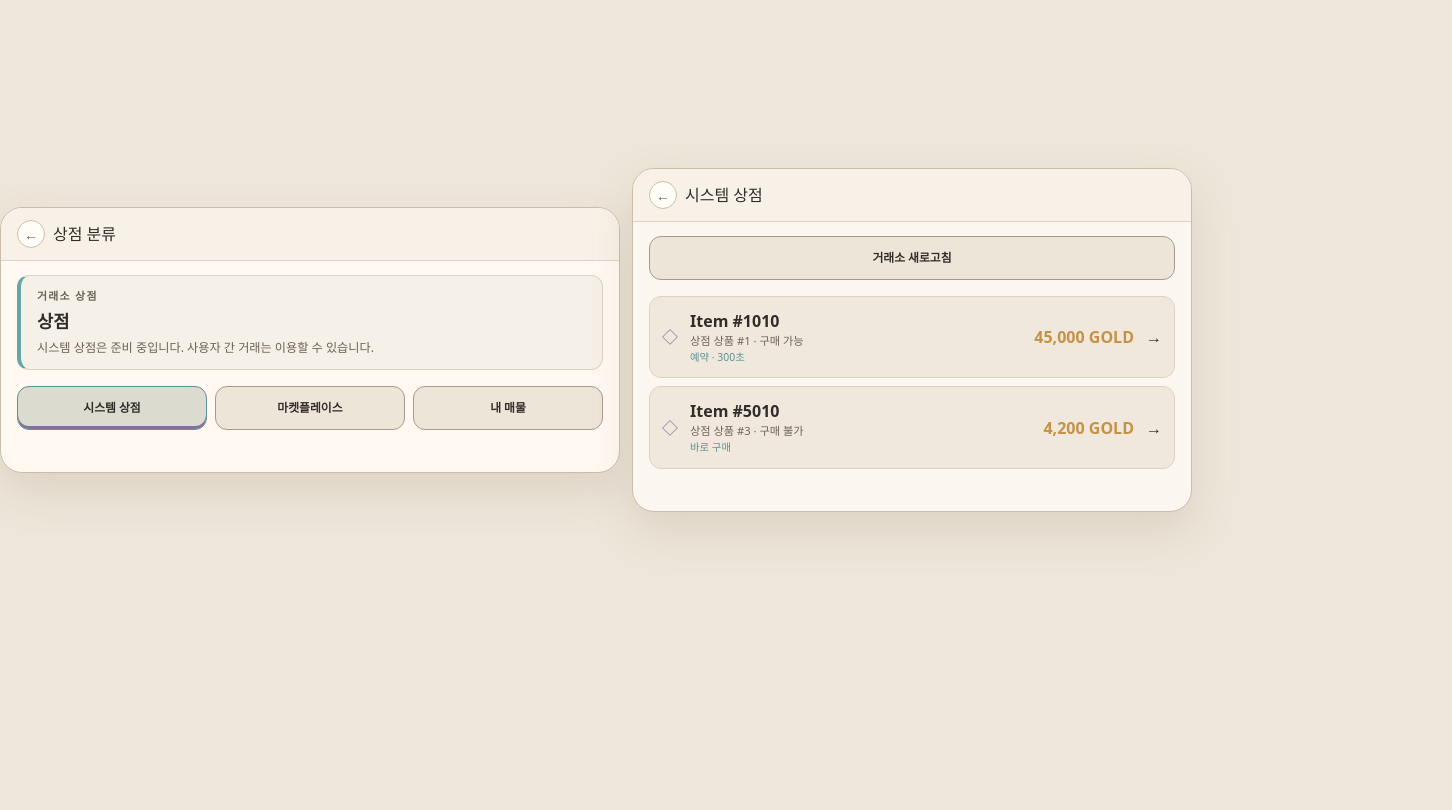
canonical Exchange surfaces › does not restore COMPLETED, CANCELED, or EXPIRED purchases as pending
This screenshot has width=1452, height=810.
Click the button "◇ Item #1010 상점 상품 #1 · 구매 가능 예약 · 300초 45,000 GOLD →" at x=735, y=321, box [649,296,1175,378]
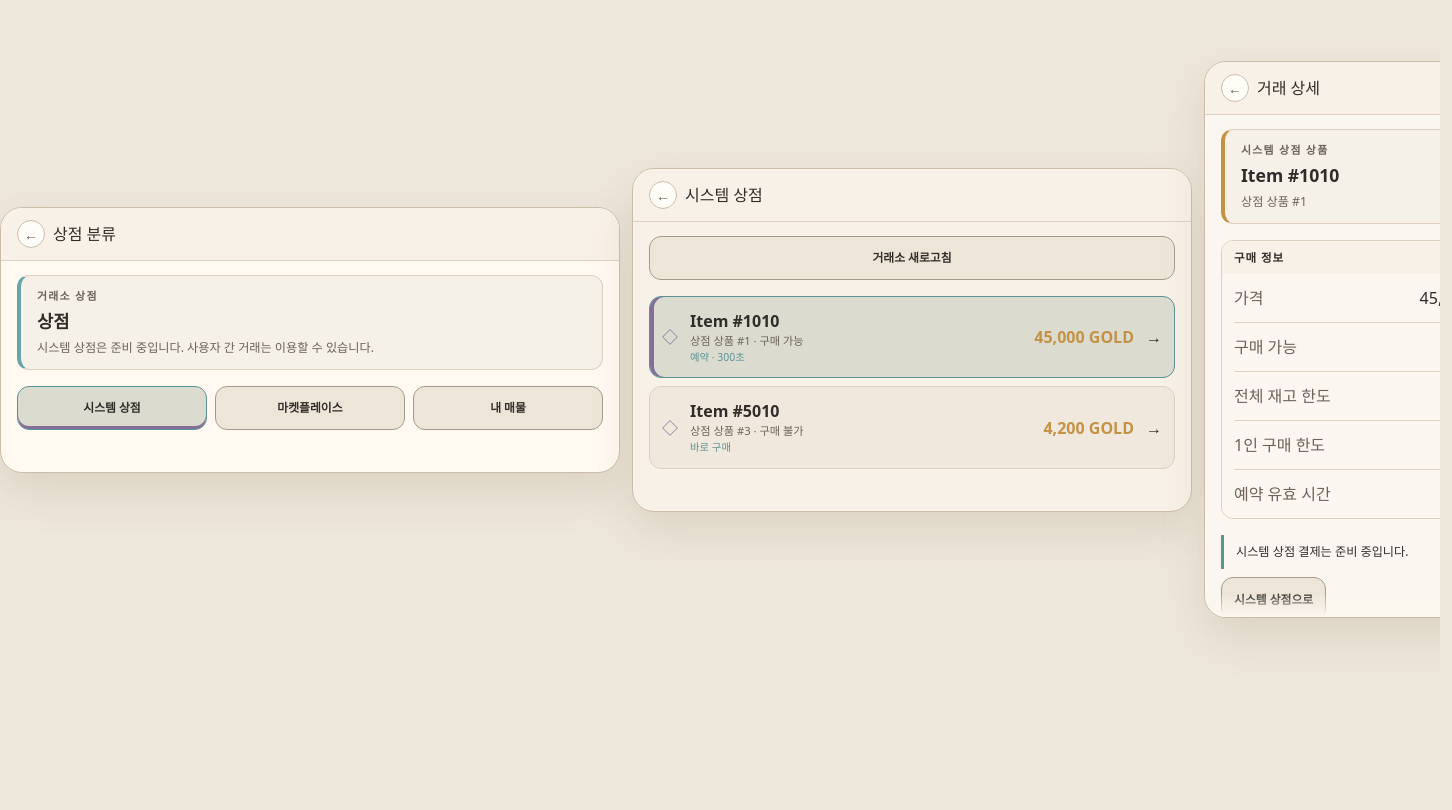
Expected: the text "시스템 상점 결제는 준비 중입니다." is shown, [1221,536,1420,570]
